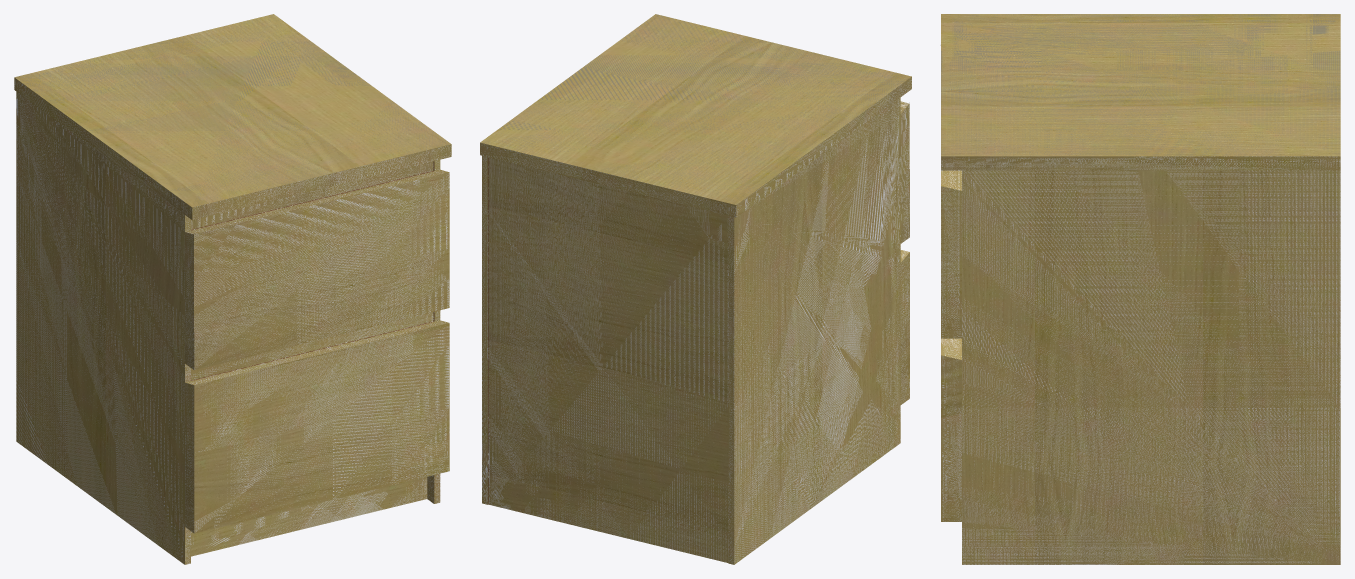
Rendered from cabinet_ikea_malm_small.dae.
3 views of the same model, side by side, from view 1: azimuth 30°, elevation 25°; view 2: azimuth 150°, elevation 25°; view 3: azimuth 270°, elevation 25° (orthographic). The views are drawn at different scales.
Parts seen in each view (by area): view 1: SketchUp (×3); view 2: SketchUp (×2); view 3: SketchUp (×3).
Part boxes in pixels (x1,y1,x2,y2): SketchUp (×3): (14,14,451,564); SketchUp (×2): (480,14,911,564); SketchUp (×3): (941,14,1340,564).
Bounding box in the file's own units: 0.4088 × 0.486 × 0.5494.
Materials: 6 (2 with a texture image).
